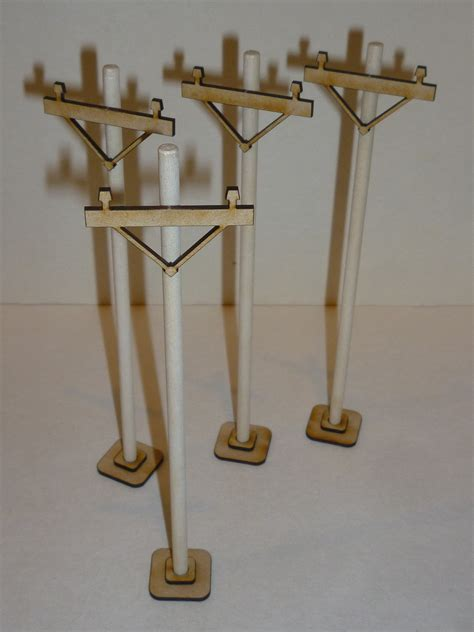pole: (294, 32, 441, 474)
